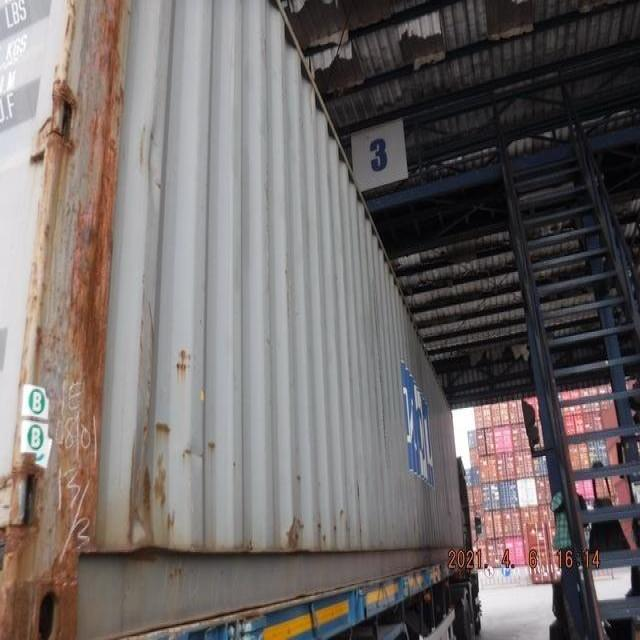dent: (125, 440, 175, 542), (136, 121, 166, 204)
